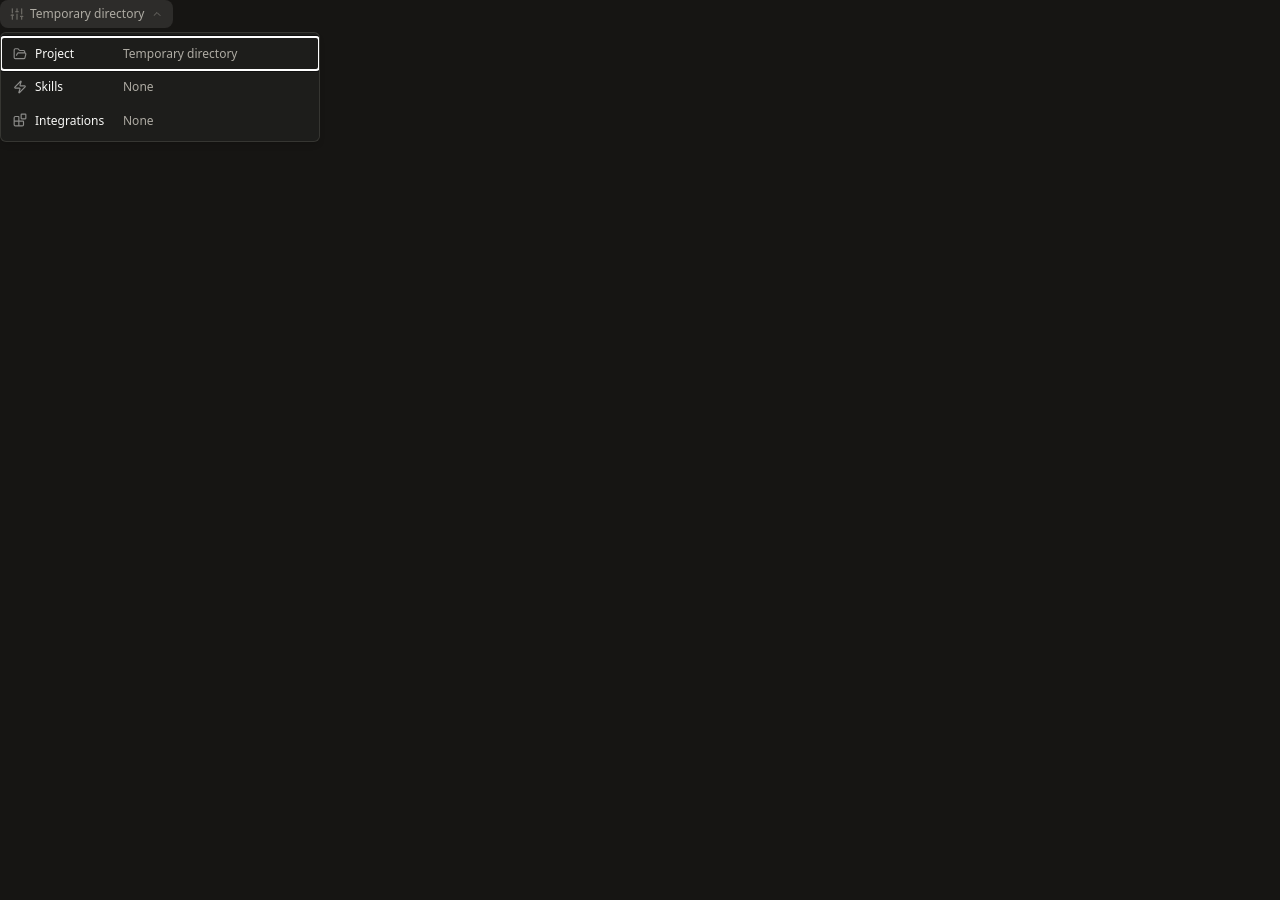
Test case: ConfigMenu Wiki & Apps tab › lists indexed wiki projects and live apps under their own groups
Click the text "Project": (55, 54) [35,45,74,62]
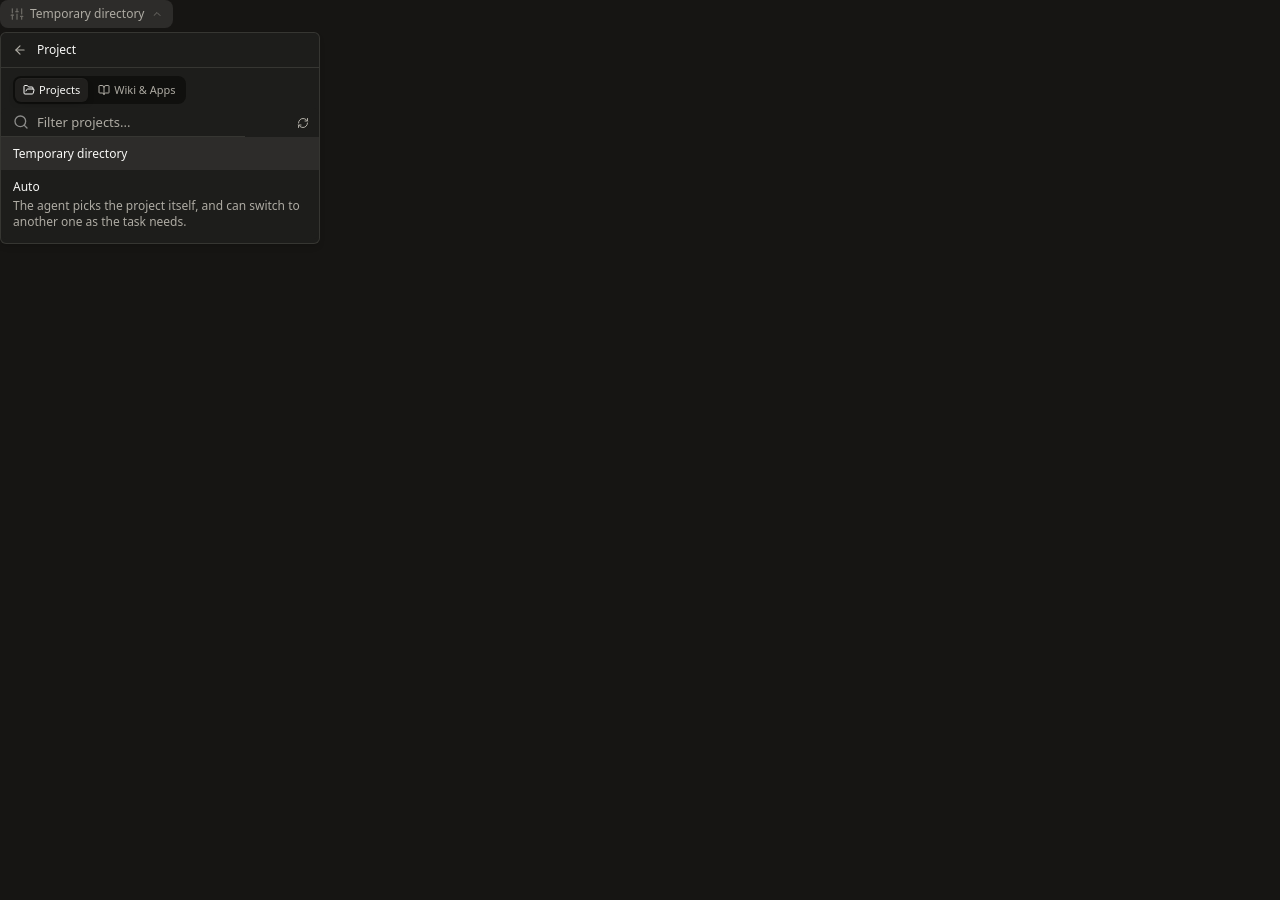
Click the tab "Wiki & Apps": (137, 90) [90,78,184,102]
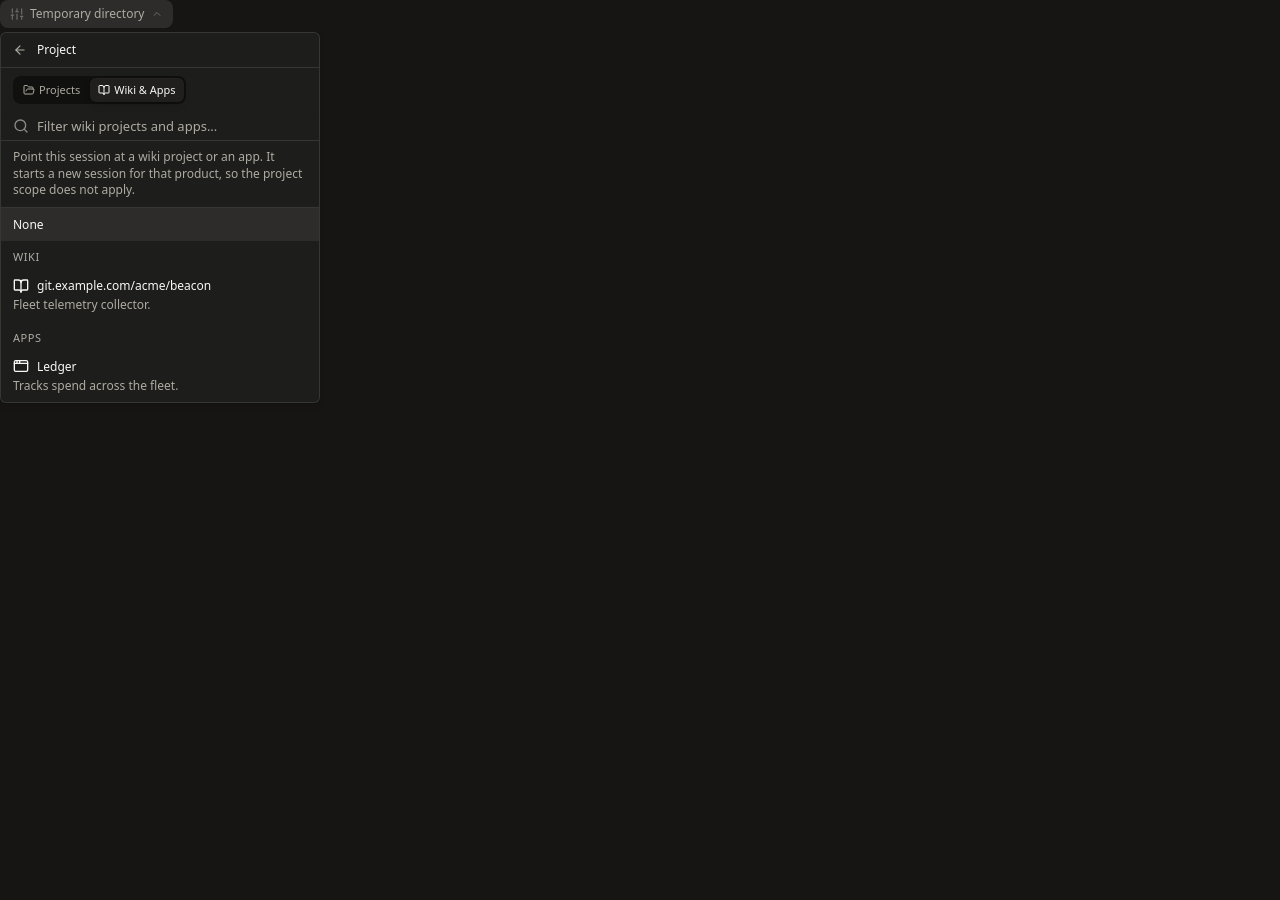
Result: the text "Wiki" is shown at [13,249,40,264]
Result: the text "git.example.com/acme/beacon" is shown at [37,277,211,294]
Result: the text "Apps" is shown at [13,330,42,345]
